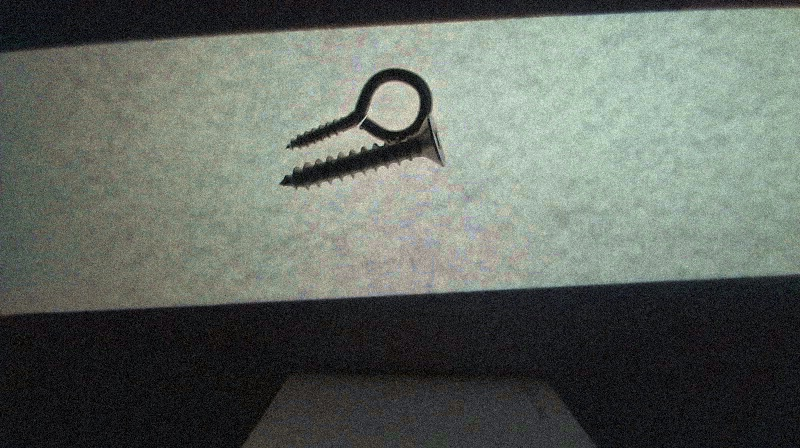O001: (284, 66, 439, 152)
S001: (277, 115, 444, 188)
